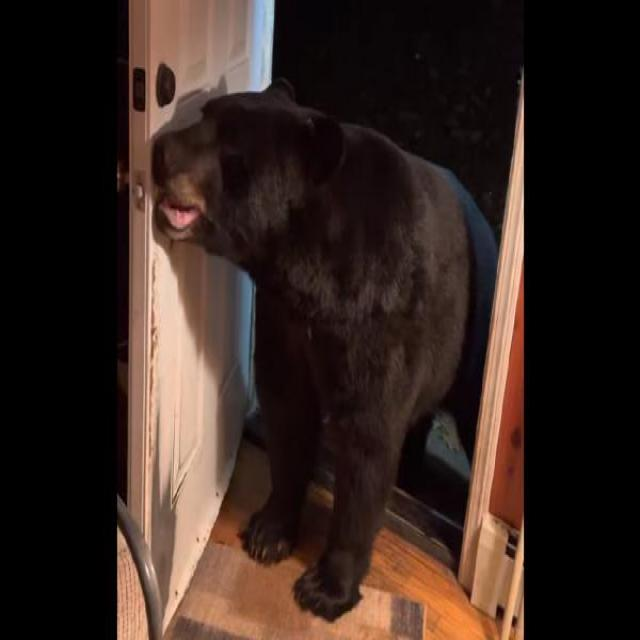Bear: (148, 78, 496, 624)
